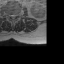CCS_normal: (12, 12, 14, 20)
LFS_normal: (16, 12, 18, 18)
LLS_normal: (14, 12, 16, 19)
RFS_normal: (8, 12, 10, 18)
RLS_normal: (10, 12, 12, 19)
